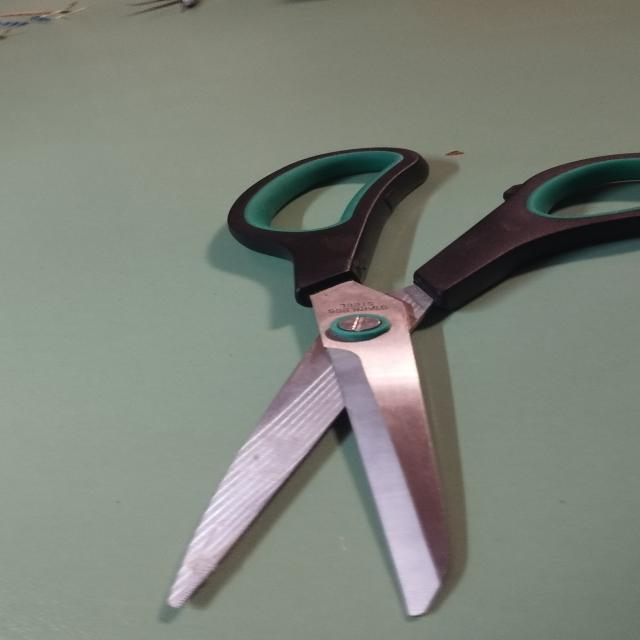scissors: (147, 139, 640, 624)
